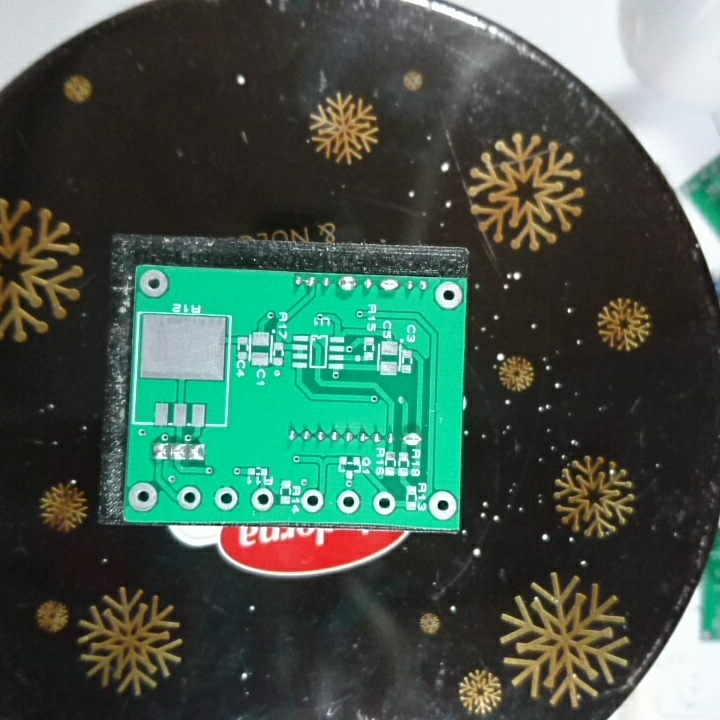F: (138, 267, 173, 300), (127, 481, 159, 514), (434, 280, 465, 312), (425, 489, 457, 520), (174, 484, 203, 512), (298, 486, 325, 515), (214, 483, 238, 513), (371, 489, 397, 516), (248, 486, 274, 513), (335, 488, 360, 515)
P: (400, 429, 421, 448), (336, 275, 357, 292), (378, 277, 399, 293)
